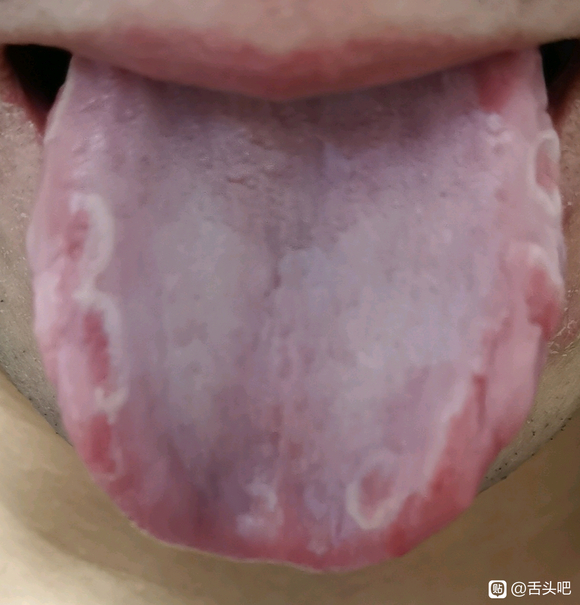baitaishe: (25, 56, 567, 571)
botaishe: (31, 169, 129, 485), (384, 359, 499, 564), (462, 56, 564, 206)
